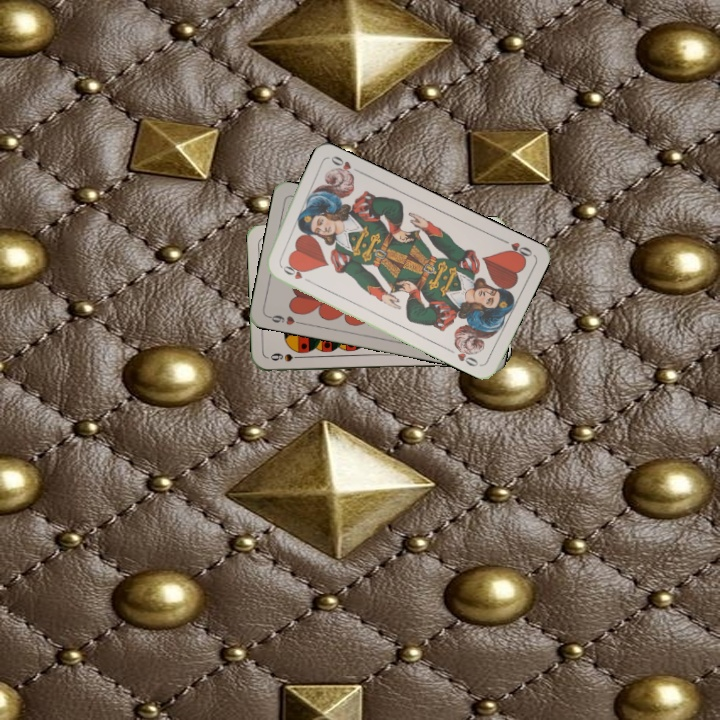H9: (264, 311, 304, 328)
HO: (497, 235, 535, 262), (276, 260, 313, 285)
S9: (266, 349, 306, 364)
